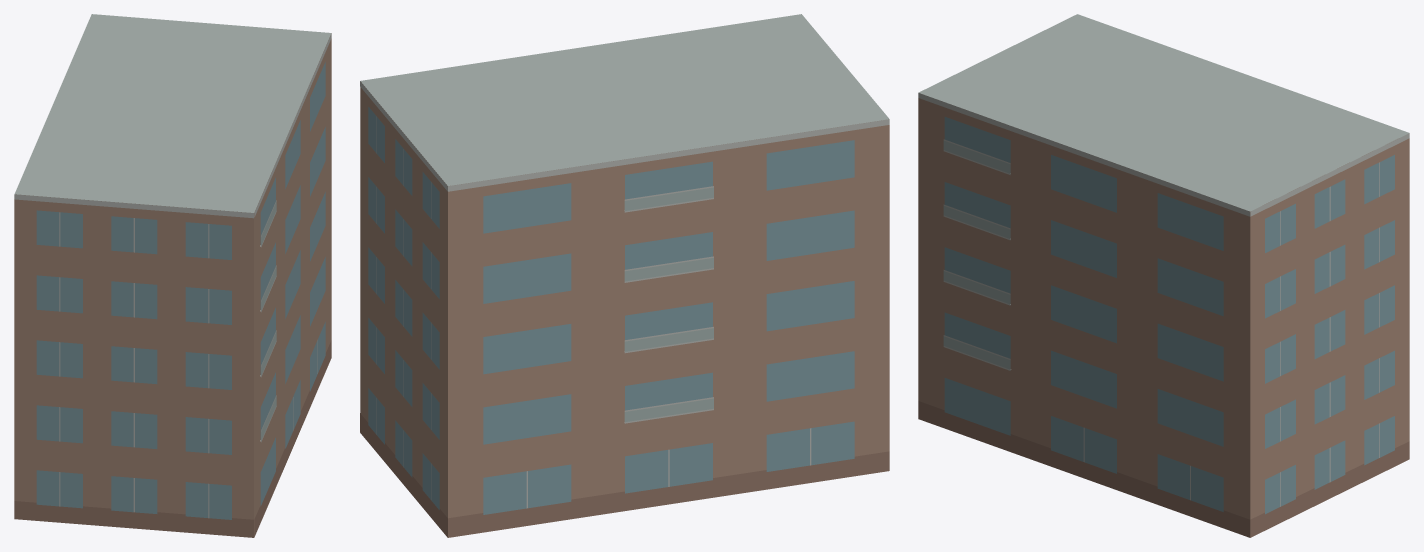
Rendered from survey-upis-32847848.glb.
3 views of the same model, side by side, from view 1: azimuth 30°, elevation 25°; view 2: azimuth 150°, elevation 25°; view 3: azimuth 270°, elevation 25° (orthographic). The views are drawn at different scales.
Visible parts, largest first — view 1: survey-upis-32847848.tmp; view 2: survey-upis-32847848.tmp; view 3: survey-upis-32847848.tmp.
Boxes of the visible parts, x1,y1,x2,y2 form: survey-upis-32847848.tmp: [14, 14, 331, 537]; survey-upis-32847848.tmp: [360, 14, 889, 537]; survey-upis-32847848.tmp: [918, 14, 1409, 537].
Bounding box in the file's own units: 19.81 × 15.25 × 20.82.
